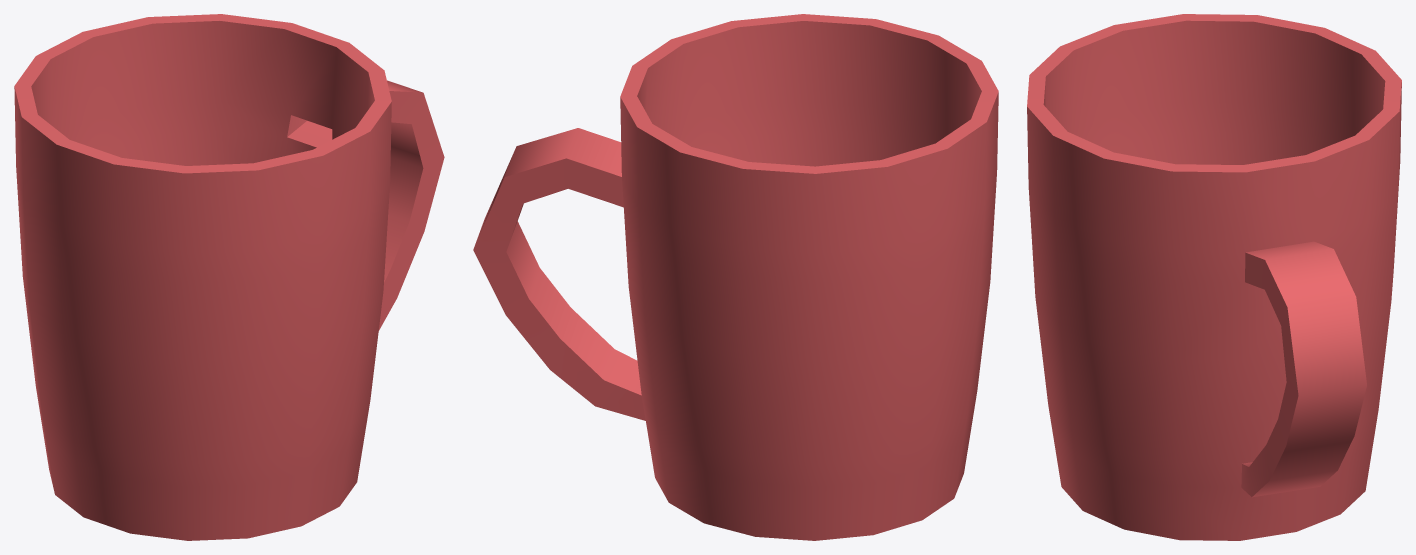
File: Mug.fbx
3 renders of one model, left to right at view 1: azimuth 30°, elevation 25°; view 2: azimuth 150°, elevation 25°; view 3: azimuth 270°, elevation 25°, orthographic.
Parts seen in each view (by area): view 1: Cylinder.013; view 2: Cylinder.013; view 3: Cylinder.013.
Part boxes in pixels (x1=…): Cylinder.013: x1=14, y1=14, x2=444, y2=540; Cylinder.013: x1=473, y1=14, x2=998, y2=540; Cylinder.013: x1=1027, y1=14, x2=1401, y2=540.
Bounding box in the file's own units: 0.2979 × 0.2445 × 0.2167.
